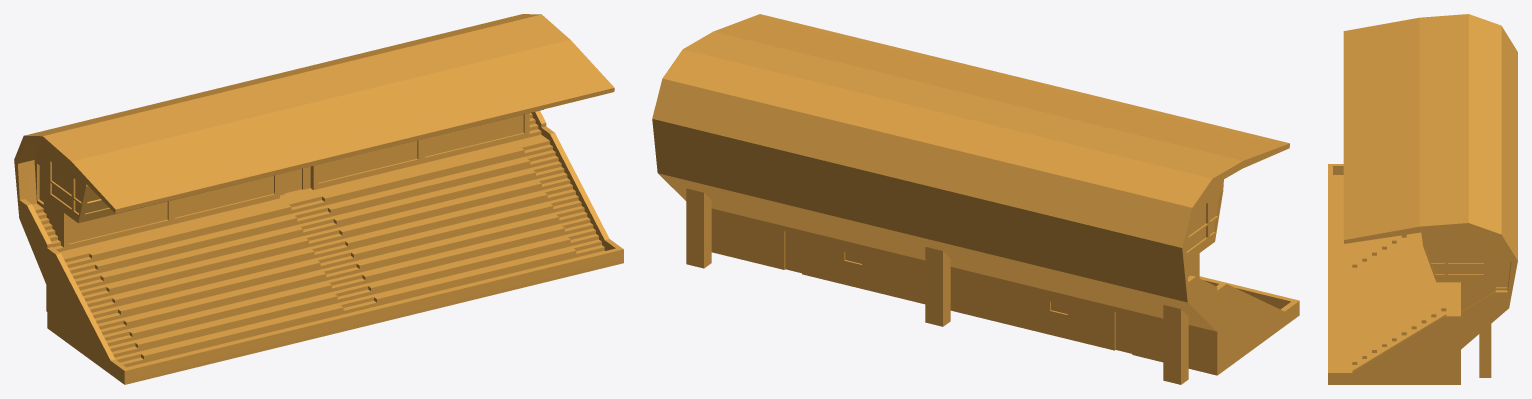
File: tribune-streight.glb
3 renders of one model, left to right at view 1: azimuth 30°, elevation 25°; view 2: azimuth 150°, elevation 25°; view 3: azimuth 270°, elevation 25°, orthographic. The views are drawn at different scales.
Parts seen in each view (by area): view 1: tribune-streight; view 2: tribune-streight; view 3: tribune-streight.
Part boxes in pixels (x1,y1,x2,y2): tribune-streight: (14, 14, 623, 384); tribune-streight: (652, 14, 1299, 384); tribune-streight: (1328, 14, 1517, 384).
Bounding box in the file's own units: 30 × 10.84 × 11.52.
